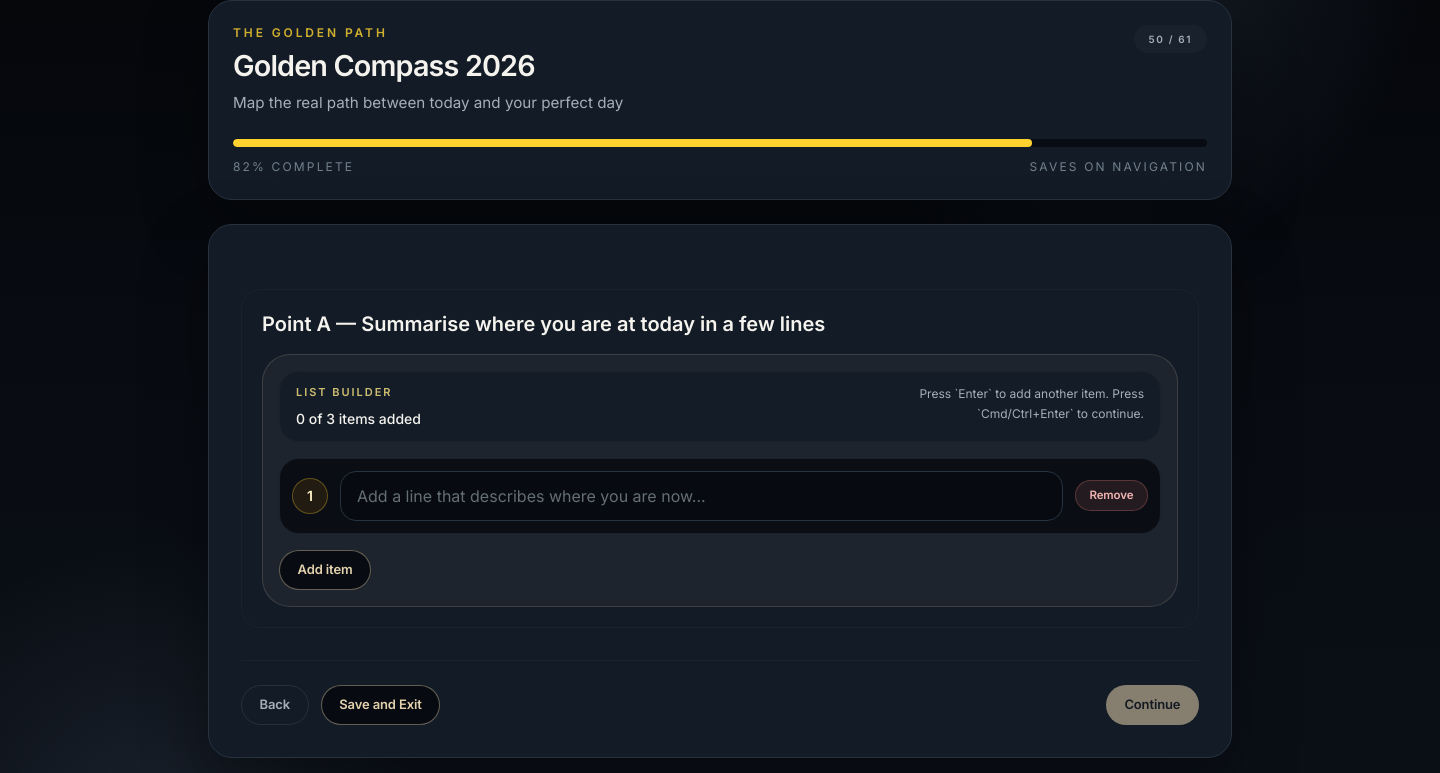
CompassSessionRunner › enforces exact-count list rules and disables adding past the max
Expected: the button "Continue" is disabled, [1106, 685, 1199, 725]
Expected: the text "0 of 3 items added" is shown, [296, 409, 421, 429]
Type "I have momentum." into the field named "Point A — Summarise where you are at today in a few lines 1" at (701, 496), box [340, 471, 1063, 521]
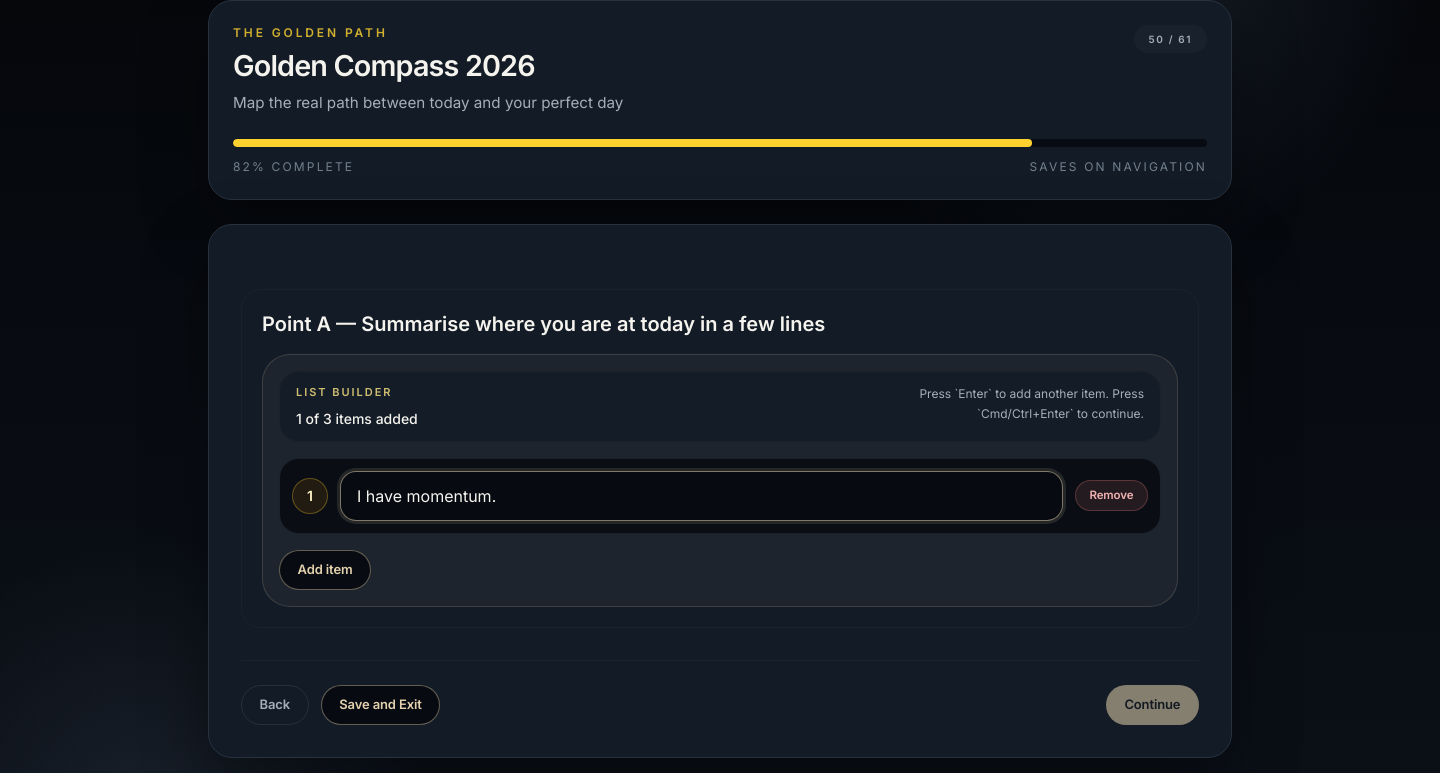
Click the button named "Add item for Point A — Summarise where you are at today in a few lines" at (325, 570), box [279, 550, 371, 590]
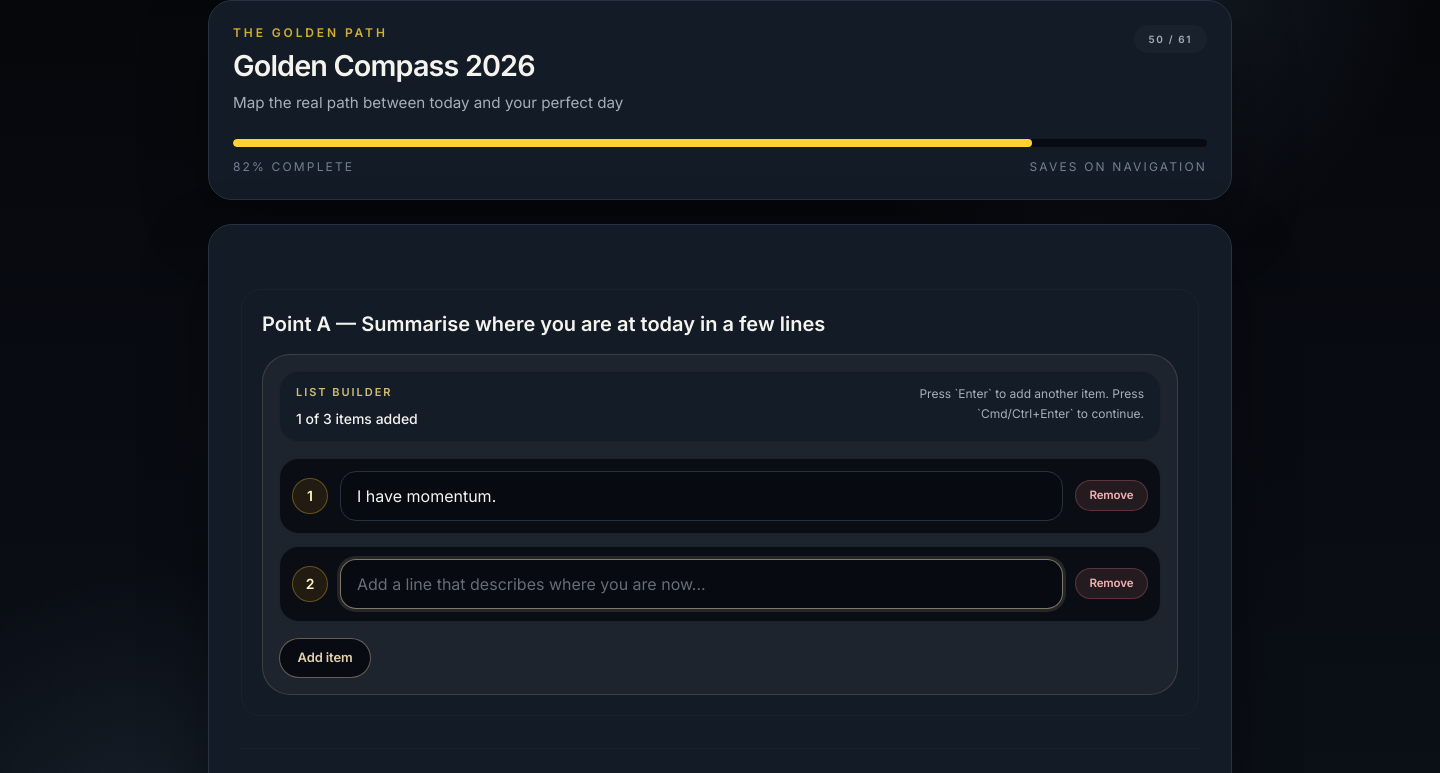
Type "I still have too many live threads." into the field named "Point A — Summarise where you are at today in a few lines 2" at (701, 584), box [340, 559, 1063, 609]
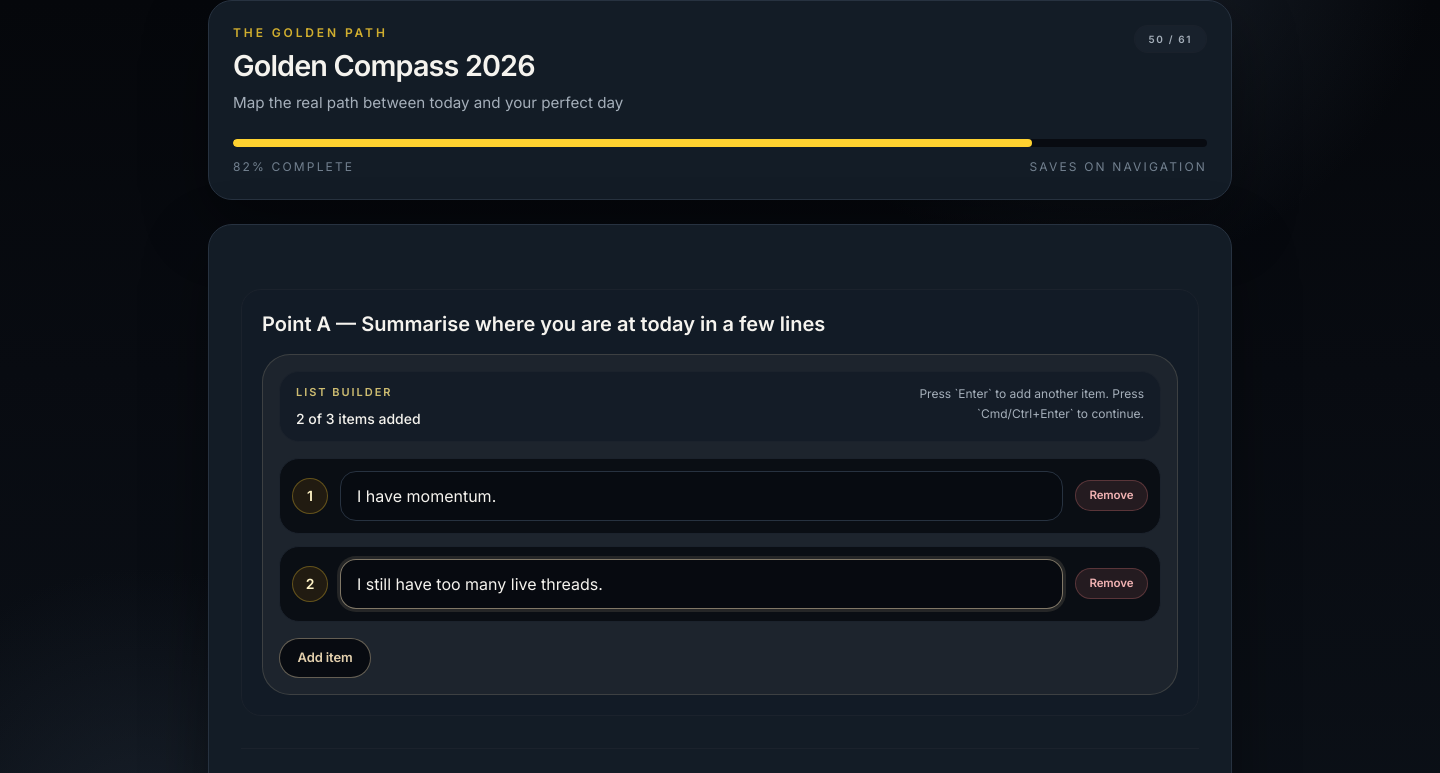
Click the button named "Add item for Point A — Summarise where you are at today in a few lines" at (325, 658), box [279, 638, 371, 678]
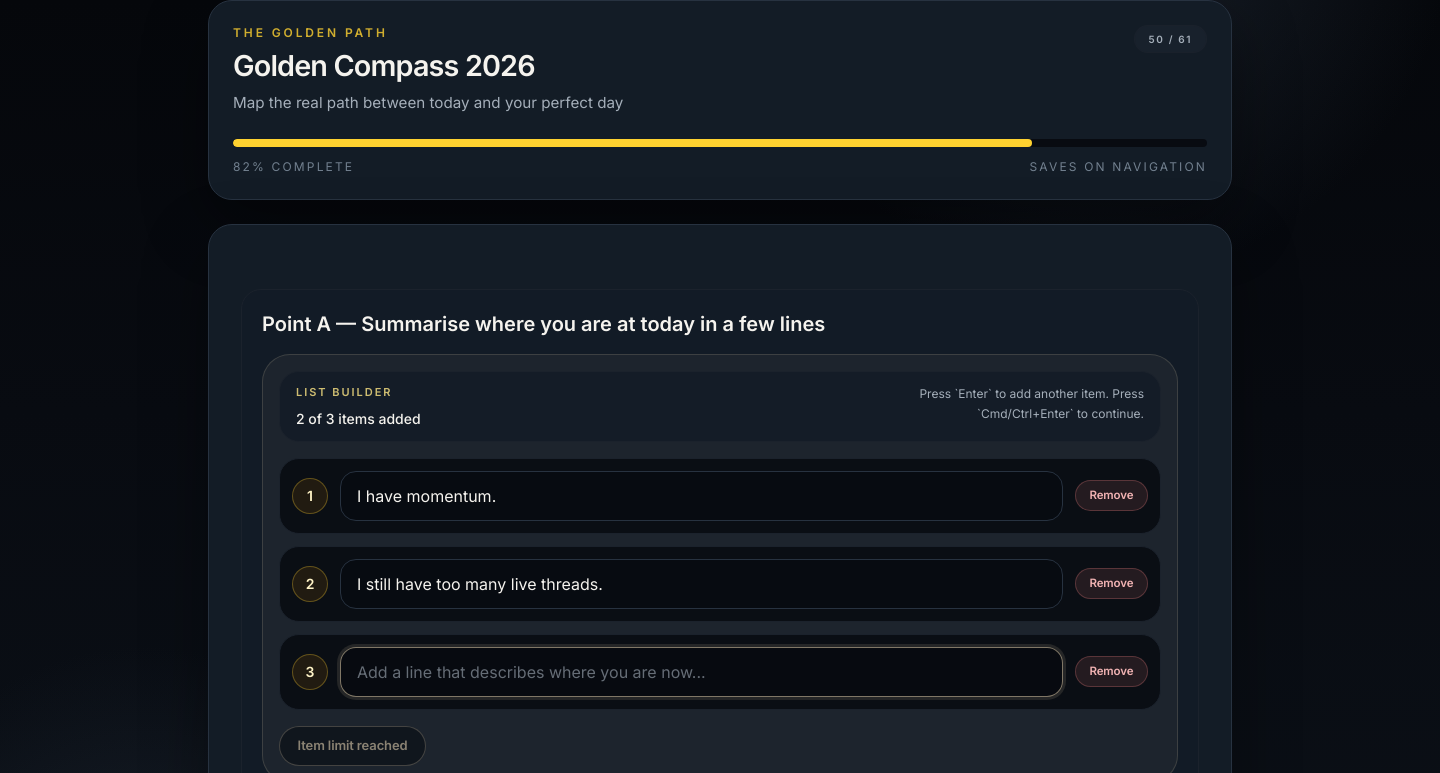
Type "I need a calmer operating rhythm." into the field named "Point A — Summarise where you are at today in a few lines 3" at (701, 672), box [340, 647, 1063, 697]
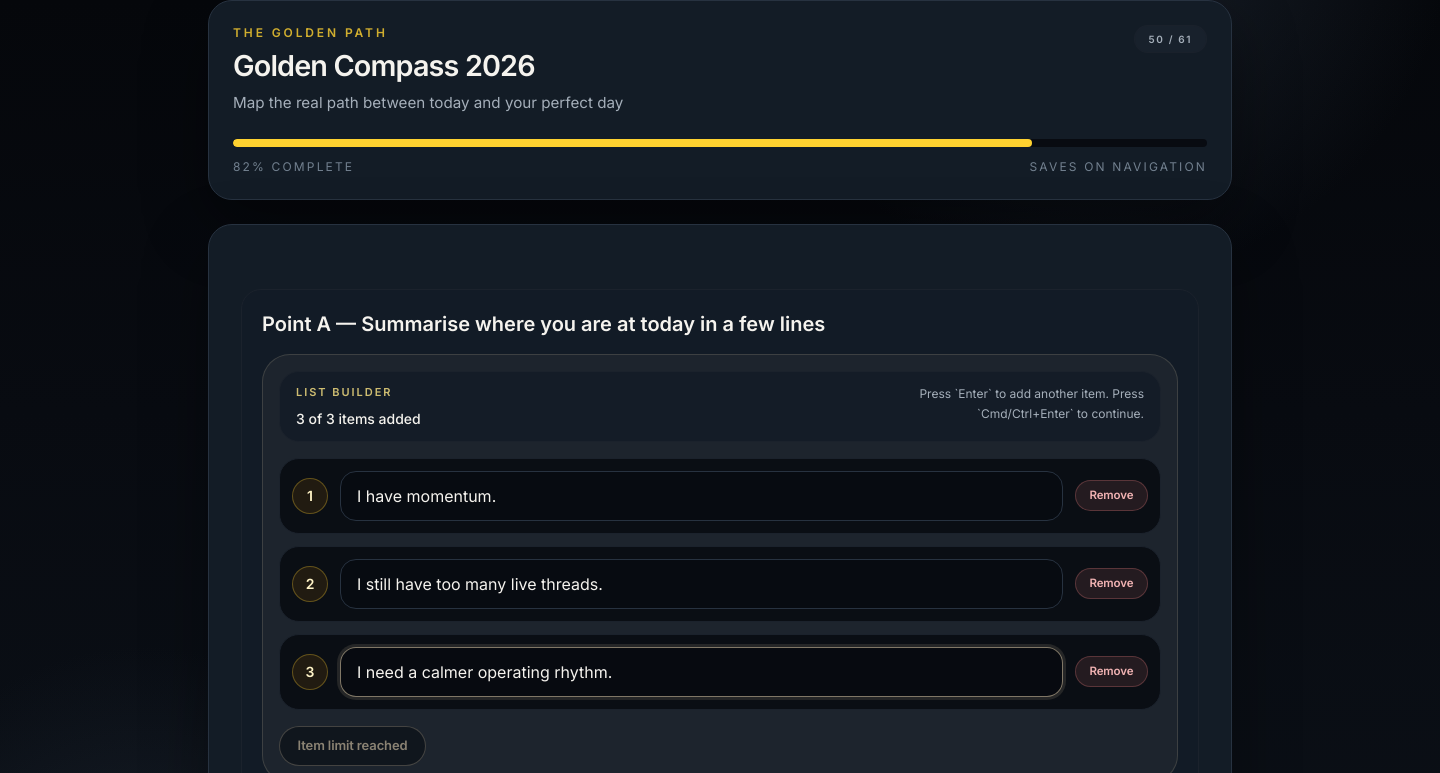
Expected: the button named "Add item for Point A — Summarise where you are at today in a few lines" is disabled, [279, 726, 426, 766]
Expected: the text "3 of 3 items added" is shown, [296, 409, 421, 429]
